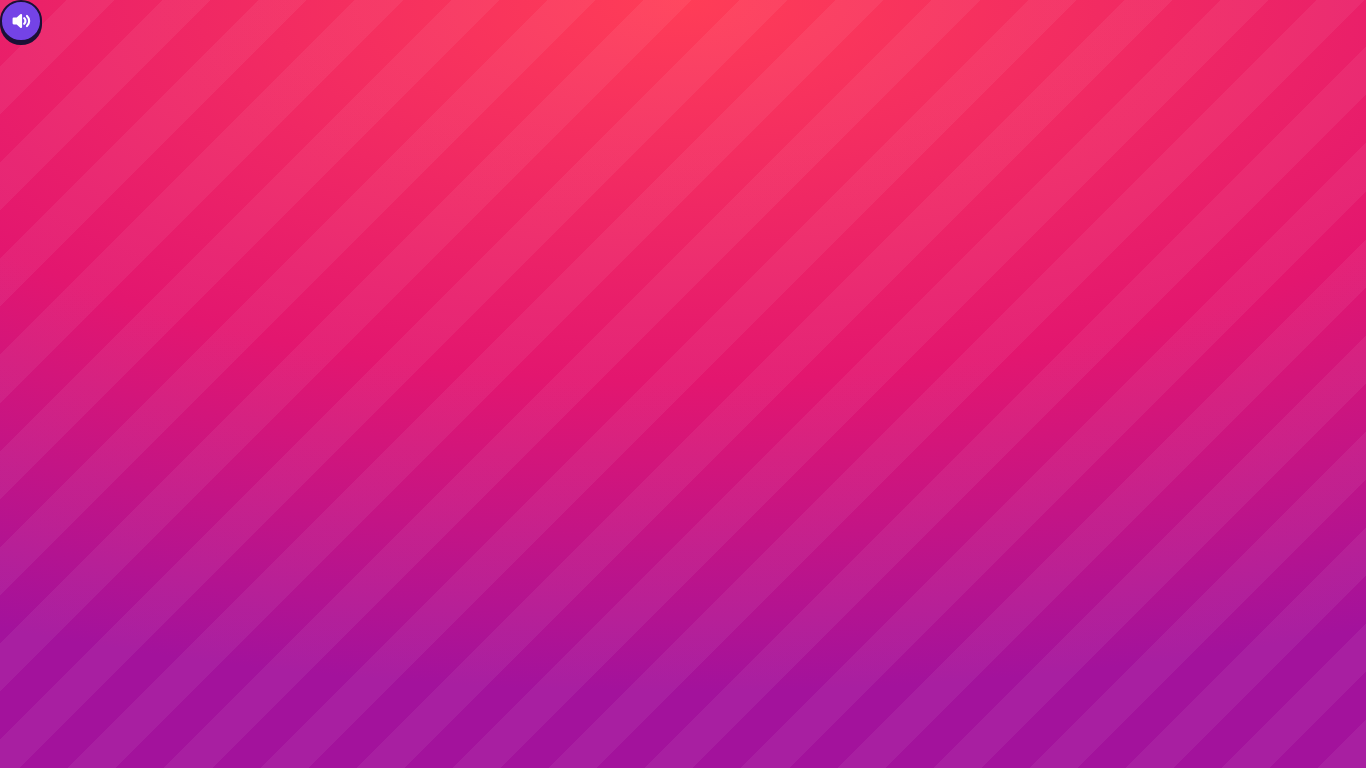
it: SoundControl › closes on a pointerdown outside, not when focus leaves
Click the button named "Son": (21, 21) [0,0,42,42]
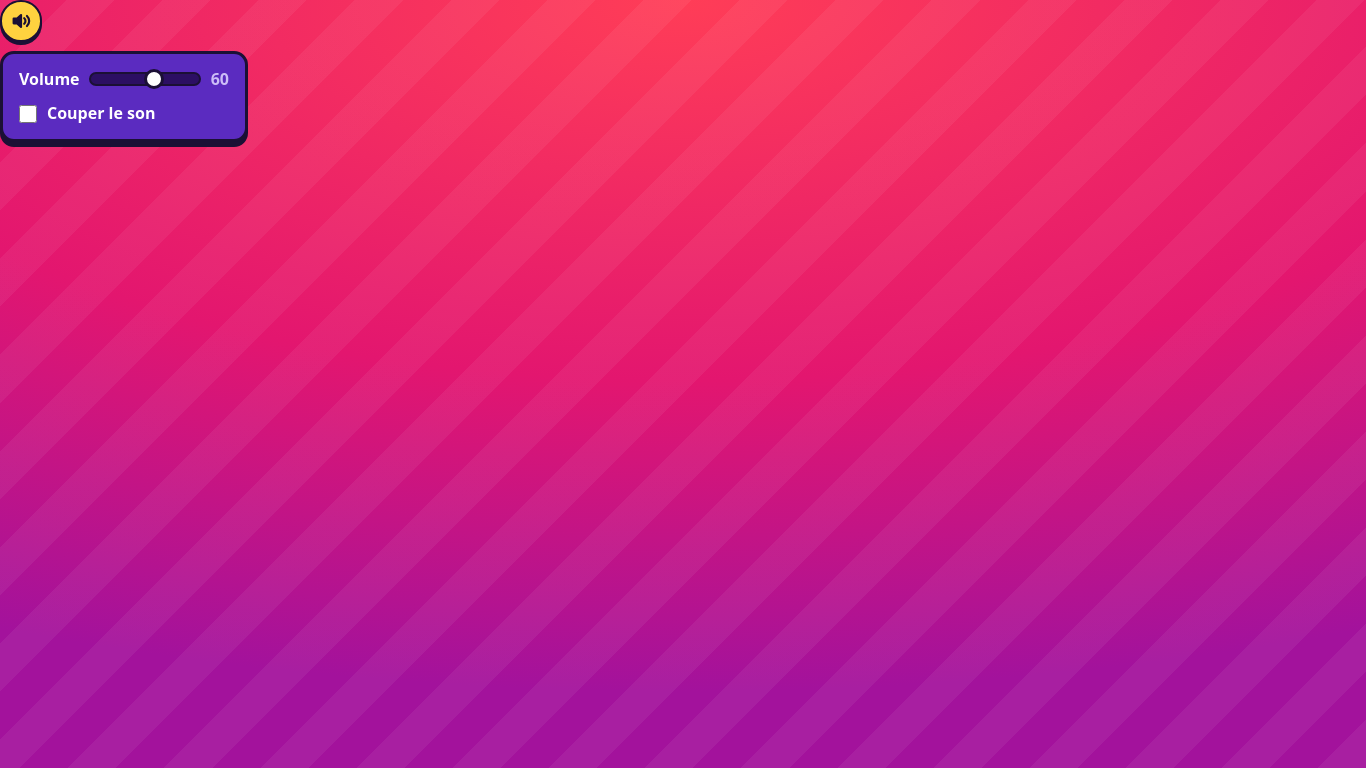
Expected: the dialog is shown, [0,51,248,142]
Press the mouse on the element showing "Volume 60 Couper le son": (683, 384) [0,0,1365,767]
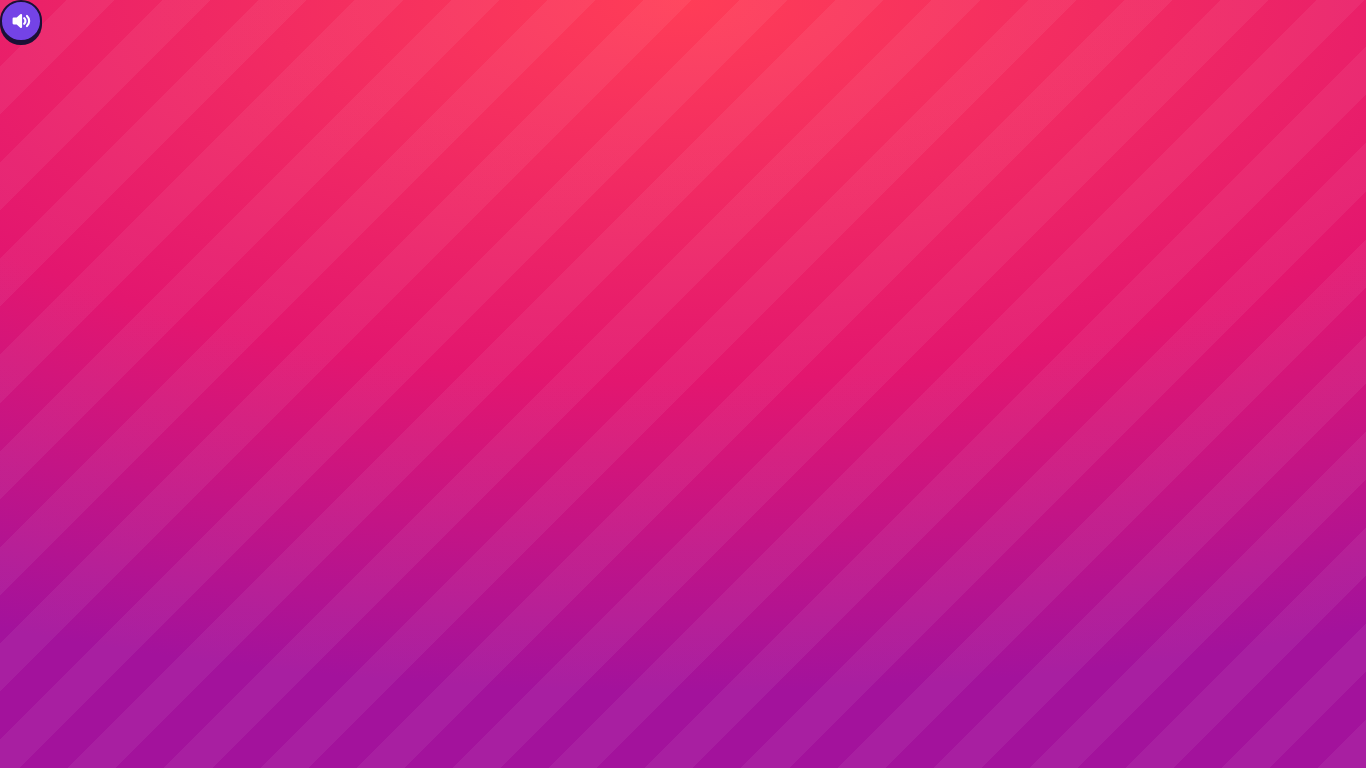
Expected: the dialog is gone
